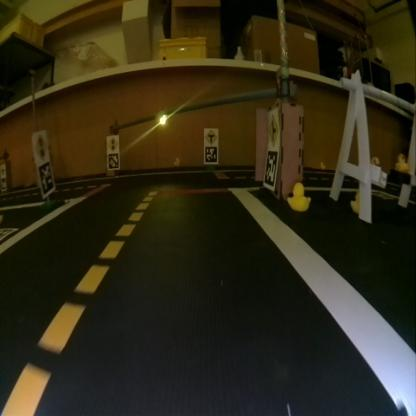Duckie: (288, 182, 308, 209), (394, 152, 407, 170), (350, 190, 360, 210), (174, 158, 180, 166), (319, 161, 325, 169)
Intersection sign: (267, 113, 279, 148), (204, 128, 217, 145)
QR code: (263, 150, 278, 186), (37, 162, 53, 194), (0, 227, 18, 242), (204, 146, 217, 163), (108, 153, 118, 168)
Signal sign: (33, 132, 48, 159), (107, 135, 118, 150)
Traffic light: (159, 111, 166, 125)
